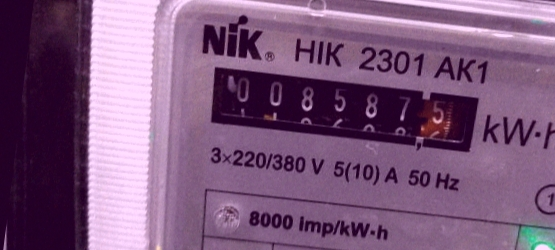0: (230, 73, 251, 104), (264, 78, 284, 108)
5: (427, 97, 447, 128), (328, 85, 348, 115)
7: (391, 92, 412, 124)
8: (359, 89, 380, 121), (296, 83, 315, 113)
screen: (186, 48, 496, 168)
